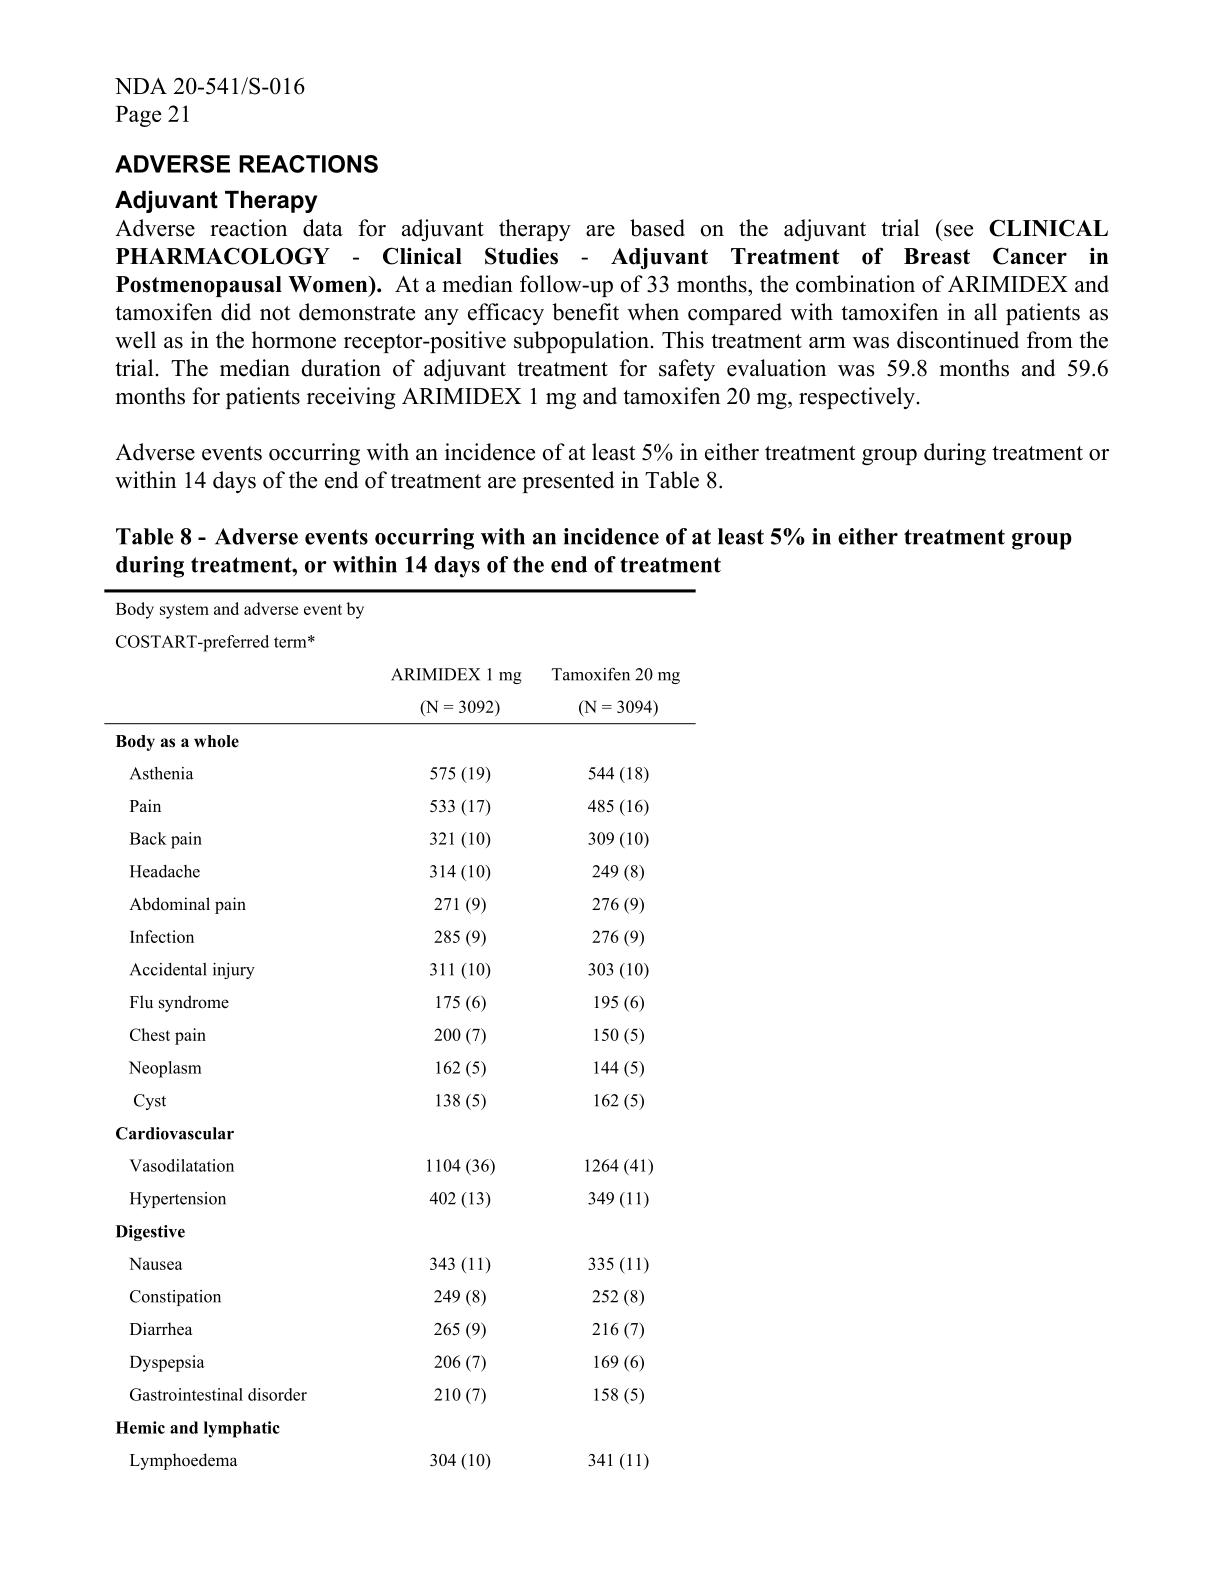partial_lined: (102, 660, 697, 1473)
